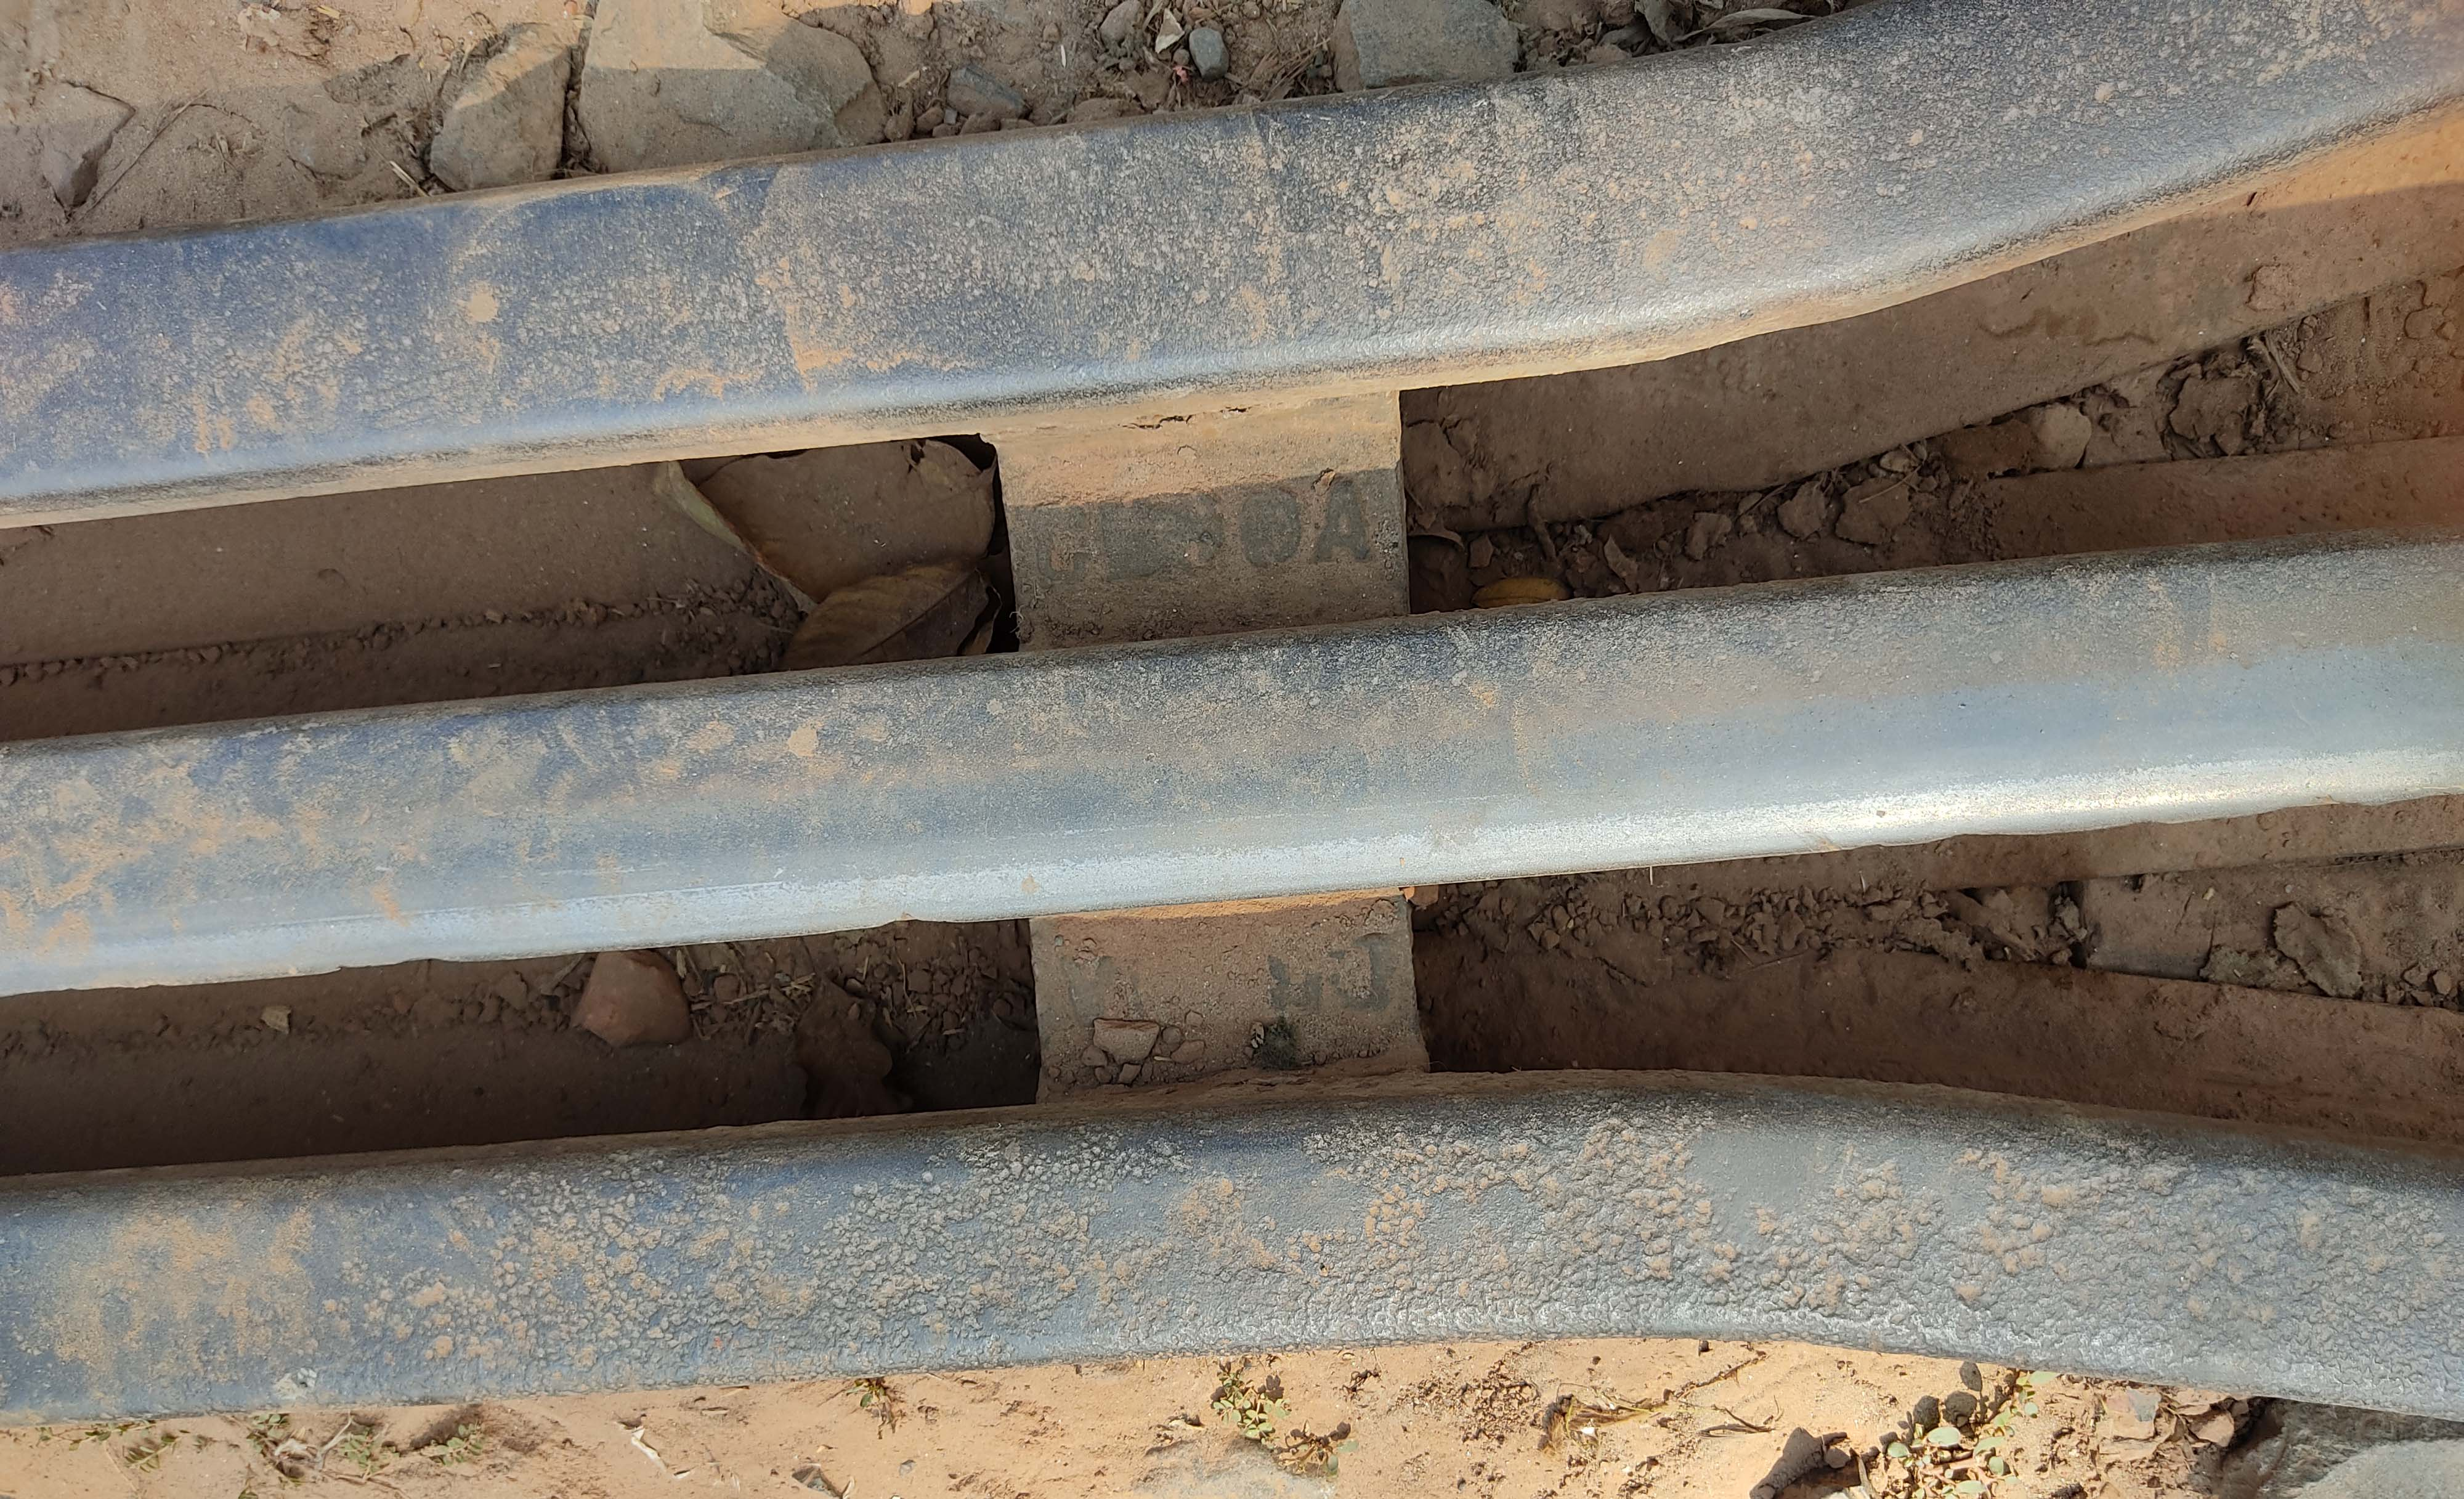error3: (1419, 1163, 1871, 1318)
